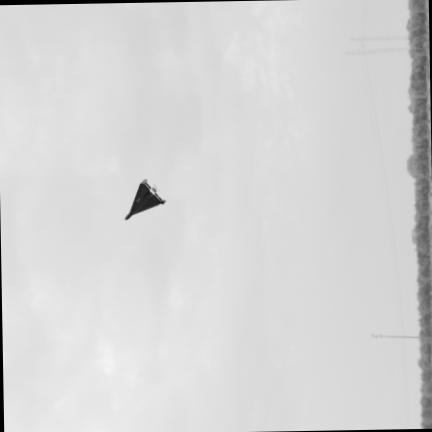Shahed: (125, 178, 164, 218)
